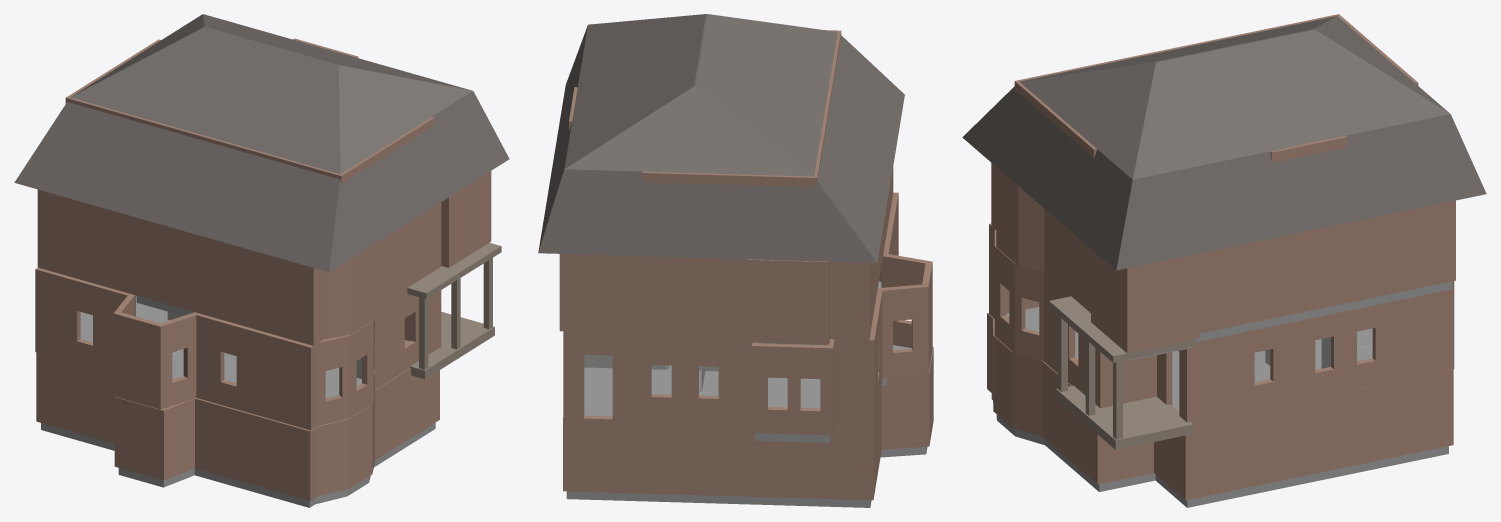
File: house.glb
3 views of the same model, side by side, from view 1: azimuth 30°, elevation 25°; view 2: azimuth 150°, elevation 25°; view 3: azimuth 270°, elevation 25° (orthographic). The views are drawn at different scales.
Bounding box in the file's own units: 47.54 × 41.5 × 50.25.
